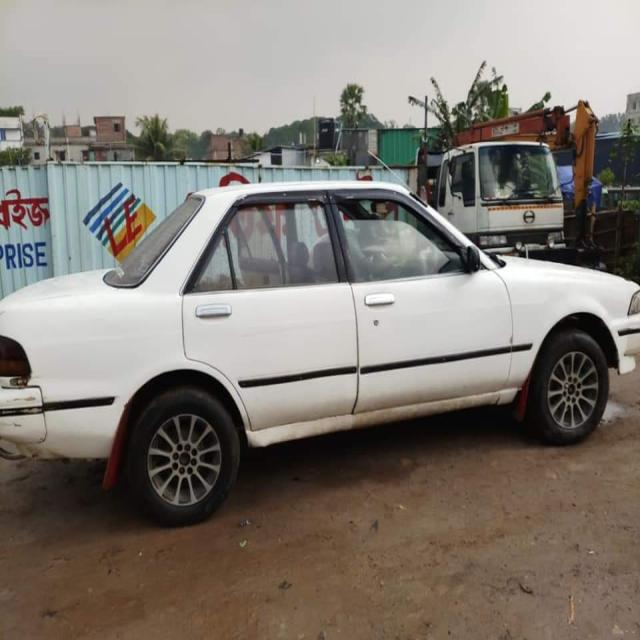white: (0, 160, 625, 472)
